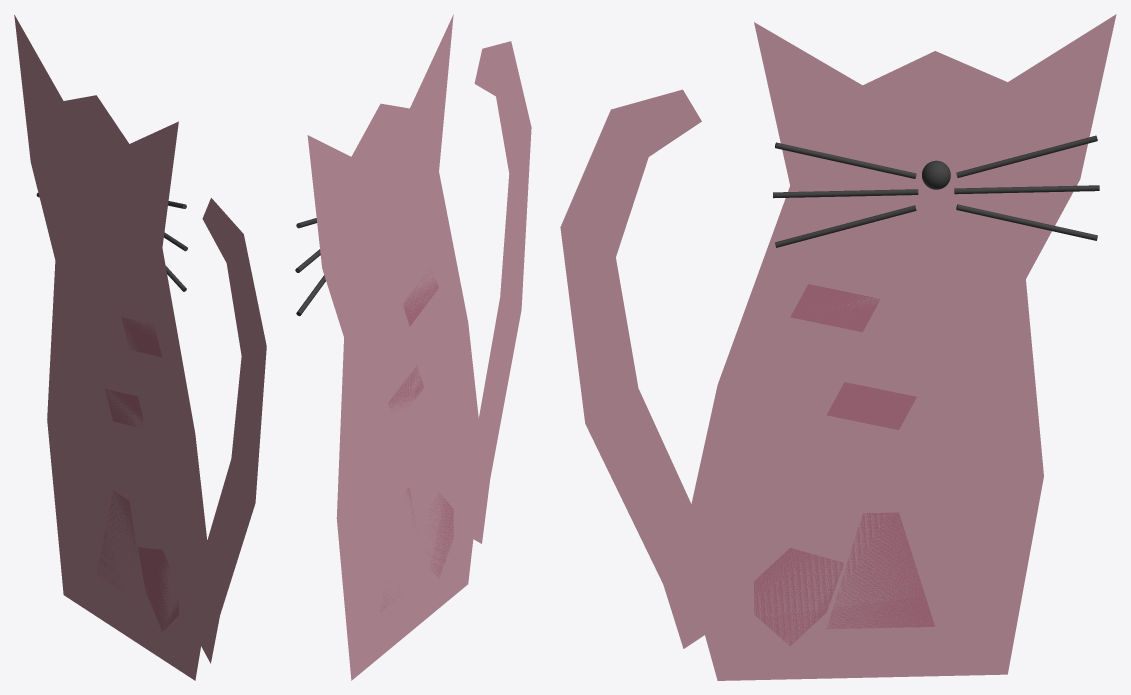
File: cat.glb
The picture shows the model from 3 angles, left to right: view 1: azimuth 30°, elevation 25°; view 2: azimuth 150°, elevation 25°; view 3: azimuth 270°, elevation 25°; orthographic projection. The views are drawn at different scales.
Visible parts, largest first — view 1: Cat_Body, Cat_Tail, Hip_Spot, Thigh_Line, Stripe_1, Stripe_2; view 2: Cat_Body, Cat_Tail, Hip_Spot, Stripe_1, Stripe_2; view 3: Cat_Body, Cat_Tail, Thigh_Line, Hip_Spot, Stripe_2, Stripe_1, Whisker_1, Whisker_4, Whisker_3, Whisker_2, Whisker_0, Whisker_5.
Part boxes in pixels (bbox=[...]): Cat_Body: bbox=[14, 15, 207, 680]; Cat_Tail: bbox=[186, 198, 266, 663]; Hip_Spot: bbox=[137, 547, 178, 631]; Thigh_Line: bbox=[97, 490, 141, 594]; Stripe_1: bbox=[121, 317, 162, 357]; Stripe_2: bbox=[105, 389, 144, 427]; Cat_Body: bbox=[307, 14, 478, 680]; Cat_Tail: bbox=[460, 41, 531, 543]; Hip_Spot: bbox=[425, 493, 453, 578]; Stripe_1: bbox=[403, 270, 438, 326]; Stripe_2: bbox=[388, 365, 423, 412]; Cat_Body: bbox=[681, 14, 1116, 680]; Cat_Tail: bbox=[560, 89, 704, 648]; Thigh_Line: bbox=[826, 512, 934, 628]; Hip_Spot: bbox=[754, 548, 843, 646]; Stripe_2: bbox=[827, 382, 916, 429]; Stripe_1: bbox=[790, 284, 880, 331]; Whisker_1: bbox=[773, 189, 918, 198]; Whisker_4: bbox=[954, 185, 1099, 194]; Whisker_3: bbox=[956, 135, 1097, 177]; Whisker_2: bbox=[775, 205, 916, 247]; Whisker_0: bbox=[775, 142, 916, 178]; Whisker_5: bbox=[956, 204, 1097, 240].
Bounding box in the file's own units: 0.2602 × 4.14 × 3.17.
